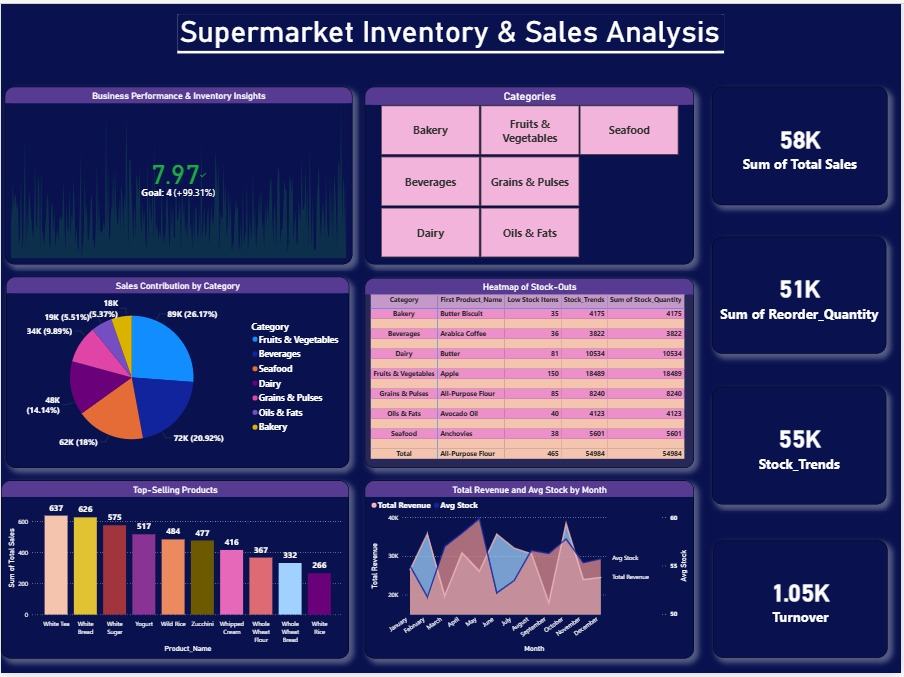

The page's visual inventory and layout, read from the dashboard file:
{"tool":"powerbi","page":{"name":"Page 1","canvas":[1800,1350],"ordinal":0},"visuals":[{"type":"lineChart","fields":{"Category":["sales.Last_Order_Date.Variation.Date Hierarchy.Month"],"Y":["sales.Total Revenue"],"Y2":["inventory.Avg Stock"]},"box":[728,964,658,356],"z":0},{"type":"pieChart","title":"Sales Contribution by Category","fields":{"Y":["sales.Total Revenue"],"Category":["products.Category"]},"box":[10,558,686,382],"z":1000},{"type":"clusteredColumnChart","title":"Top-Selling Products","fields":{"Y":["Sum(sales.Total Sales)"],"Category":["products.Product_Name"]},"box":[0,964,696,356],"z":2000},{"type":"pivotTable","title":"Heatmap of Stock-Outs","fields":{"Rows":["products.Category"],"Values":["Min(products.Product_Name)","inventory.Low Stock Items","inventory.Stock_Trends","Sum(inventory.Stock_Quantity)"]},"box":[728,560,658,380],"z":3000},{"type":"kpi","title":"Business Performance & Inventory Insights","fields":{"Indicator":["inventory.Turnover"],"TrendLine":["sales.Last_Order_Date"],"Goal":["inventory.Low Stock Items"]},"box":[6.7,176.7,695,355],"z":4000},{"type":"slicer","title":"Categories","fields":{"Values":["products.Category"]},"box":[728.3,176.7,658.3,355],"z":5000},{"type":"card","fields":{"Values":["inventory.Turnover"]},"box":[1424,1086,348,234],"z":6000},{"type":"card","fields":{"Values":["inventory.Stock_Trends"]},"box":[1423.3,778.3,348.3,235],"z":7000},{"type":"card","fields":{"Values":["Sum(inventory.Reorder_Quantity)"]},"box":[1423.3,478.3,348.3,233.3],"z":8000},{"type":"textbox","title":"Supermarket Inventory & Sales Analysis","box":[353.3,31.7,1093.3,78.3],"z":9000},{"type":"card","fields":{"Values":["Sum(sales.Total Sales)"]},"box":[1423.3,176.7,350,236.7],"z":10000}]}

Visuals, with their boxes in screenshot pixels (x1, y1, x2, y2), scaled from the page's 1800x1350 canvas onto the 904x677 screenshot:
lineChart - sales.Last_Order_Date.Variation.Date Hierarchy.Month x sales.Total Revenue: (366, 483, 696, 662)
"Sales Contribution by Category" pieChart: (5, 280, 350, 471)
"Top-Selling Products" clusteredColumnChart: (0, 483, 350, 662)
"Heatmap of Stock-Outs" pivotTable: (366, 281, 696, 471)
"Business Performance & Inventory Insights" kpi: (3, 89, 352, 267)
"Categories" slicer: (366, 89, 696, 267)
card - inventory.Turnover: (715, 545, 890, 662)
card - inventory.Stock_Trends: (715, 390, 890, 508)
card - Sum(inventory.Reorder_Quantity): (715, 240, 890, 357)
"Supermarket Inventory & Sales Analysis" textbox: (177, 16, 727, 55)
card - Sum(sales.Total Sales): (715, 89, 891, 207)
